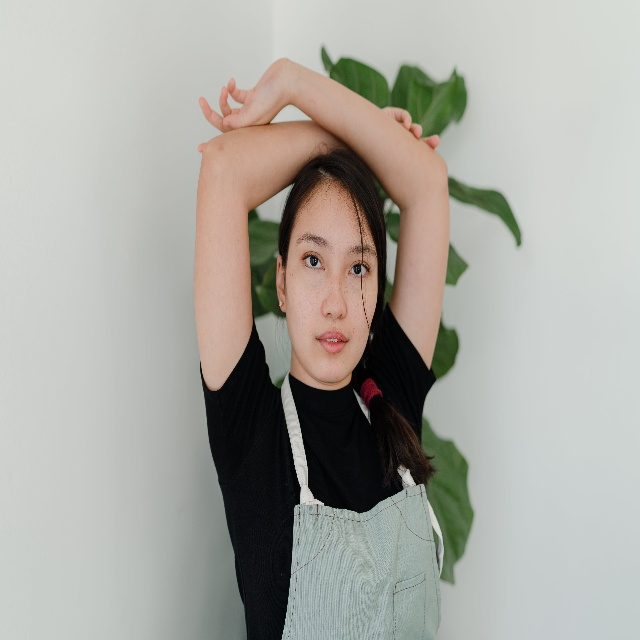Sin_guantes: (194, 59, 289, 141), (385, 103, 442, 152)
